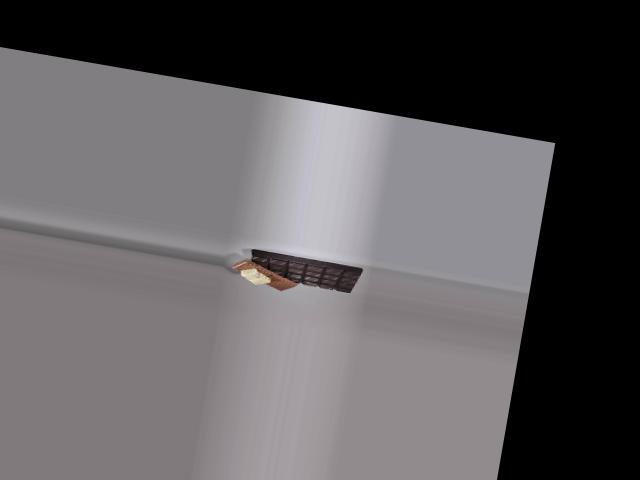chocolate: (239, 243, 364, 298)
